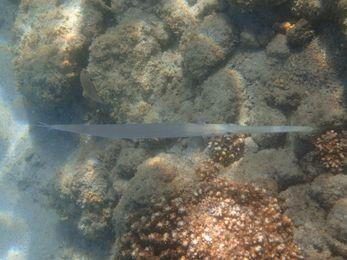Fistularia commersonii: (57, 110, 347, 159)
